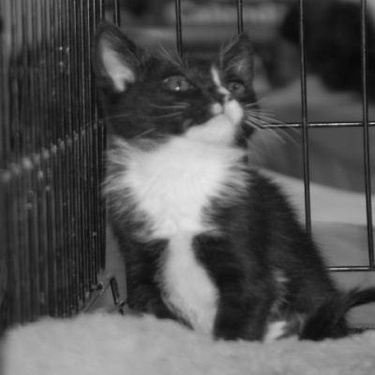cat: (89, 14, 372, 341)
